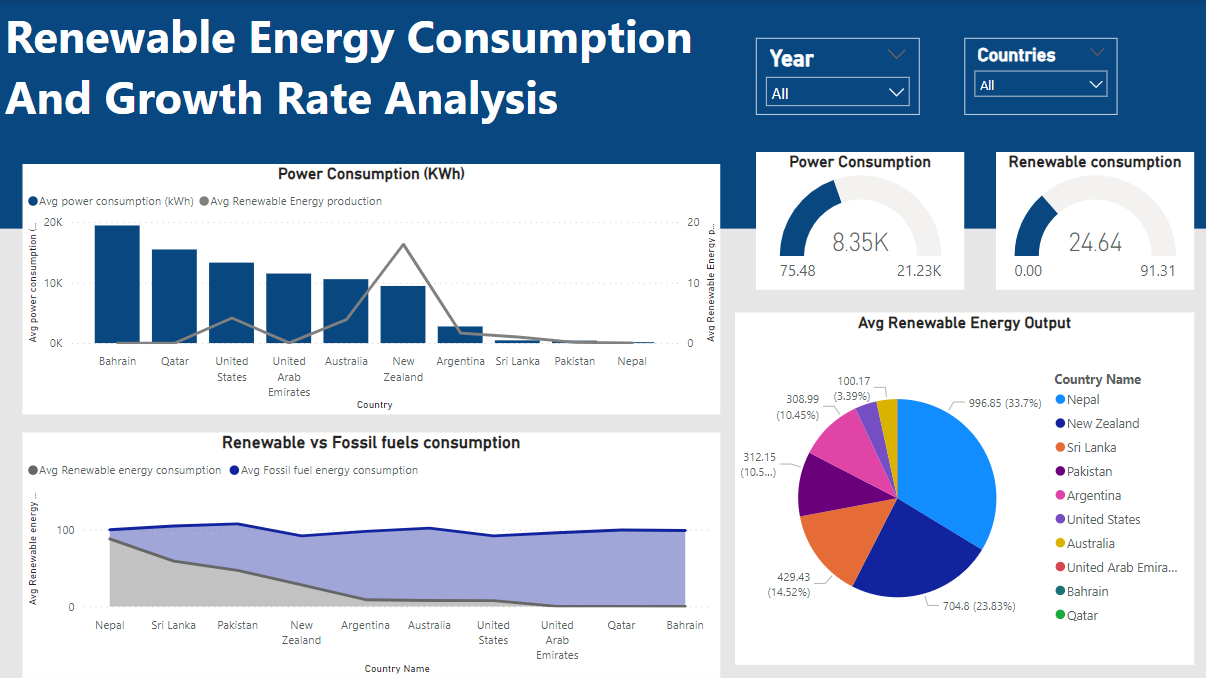

What the dashboard file says about the page in this screenshot:
{"tool":"powerbi","page":{"name":"Page 1","canvas":[1280,720],"ordinal":0},"visuals":[{"type":"textbox","box":[0,0,1279.5,243.2],"z":0},{"type":"lineClusteredColumnComboChart","title":"Power Consumption (KWh) ","fields":{"Category":["RE_data_upd.Country Name"],"Y":["Avg(RE_data_upd.Electric power consumption (kWh per capita))"],"Y2":["Avg(RE_data_upd.Electricity production from renewable sources, excluding hydroelectric (% of total))"]},"box":[23.8,174.8,739.1,265.4],"z":1000},{"type":"pieChart","title":"Avg Renewable Energy Output","fields":{"Category":["RE_data_upd.Country Name"],"Y":["Sum(RE_data_upd.Renewable electricity output (% of total electricity output))"]},"box":[778.8,332.2,486.4,373.5],"z":2000},{"type":"slicer","fields":{"Values":["RE_data_upd.Time"]},"box":[801.1,41.3,173.2,81.1],"z":3000},{"type":"slicer","fields":{"Values":["RE_data_upd.Country Name"]},"box":[1022,41.3,162.1,81.1],"z":4000},{"type":"stackedAreaChart","title":"Renewable vs Fossil fuels consumption ","fields":{"Category":["RE_data_upd.Country Name"],"Y":["Avg(RE_data_upd.Renewable energy consumption (% of total final energy consumption))","Avg(RE_data_upd.Fossil fuel energy consumption (% of total))"]},"box":[24,460,739,260],"z":5000},{"type":"gauge","title":"Renewable consumption","fields":{"Y":["Avg(RE_data_upd.Renewable energy consumption (% of total final energy consumption))"],"MinValue":["Min(RE_data_upd.Renewable energy consumption (% of total final energy consumption))"],"MaxValue":["Max(RE_data_upd.Renewable energy consumption (% of total final energy consumption))1"]},"box":[1055.4,162.1,209.8,146.2],"z":6000},{"type":"gauge","title":"Power Consumption","fields":{"Y":["Avg(RE_data_upd.Electric power consumption (kWh per capita))"],"MinValue":["Min(RE_data_upd.Electric power consumption (kWh per capita))"],"MaxValue":["Max(RE_data_upd.Electric power consumption (kWh per capita))"]},"box":[801.1,162.1,220.9,146.2],"z":6001}]}

Visuals, with their boxes in screenshot pixels (x1, y1, x2, y2), scaled from the page's 1280x720 canvas onto the 1206x678 screenshot:
textbox: 0 0 1205 229
"Power Consumption (KWh) " lineClusteredColumnComboChart: 22 165 719 415
"Avg Renewable Energy Output" pieChart: 734 313 1192 665
slicer - RE_data_upd.Time: 755 39 918 115
slicer - RE_data_upd.Country Name: 963 39 1116 115
"Renewable vs Fossil fuels consumption " stackedAreaChart: 23 433 719 677
"Renewable consumption" gauge: 994 153 1192 290
"Power Consumption" gauge: 755 153 963 290
